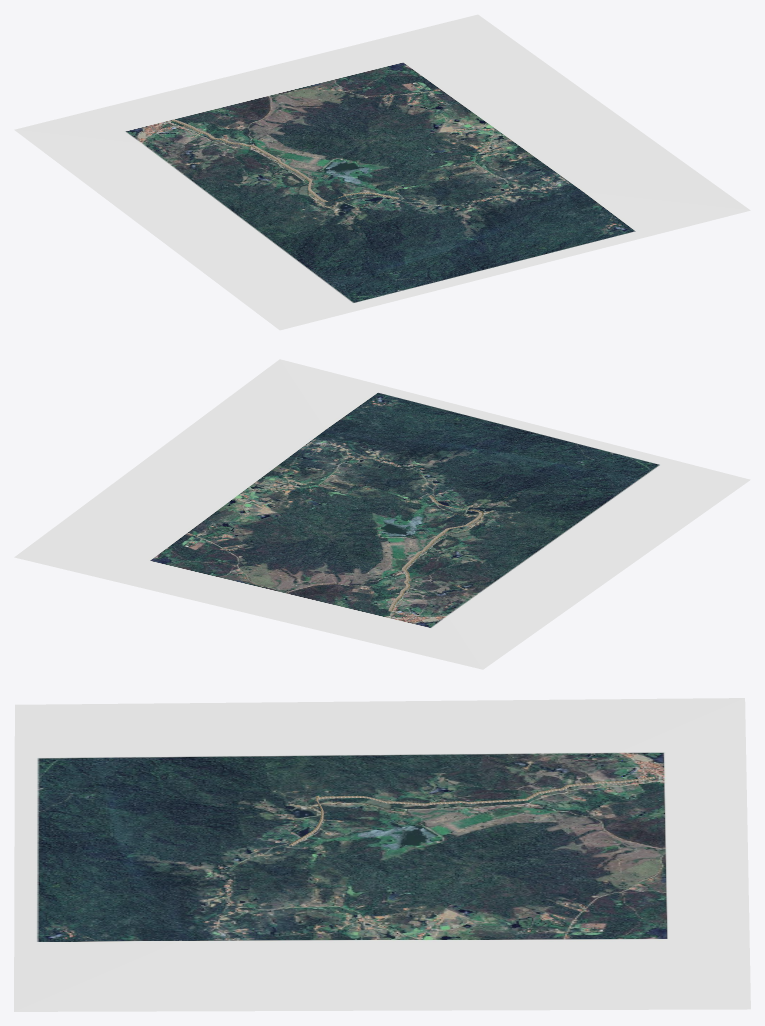
The model's file is sacoverde.gltf.
3 views of the same model, one above another, from view 1: azimuth 30°, elevation 25°; view 2: azimuth 150°, elevation 25°; view 3: azimuth 270°, elevation 25° (orthographic). The views are drawn at different scales.
Visible parts, largest first — view 1: Flat Plane, Sides[Gravel]; view 2: Flat Plane, Sides[Gravel]; view 3: Flat Plane, Sides[Gravel].
Boxes of the visible parts, bbox=[...] form: Flat Plane: bbox=[14, 14, 750, 330]; Sides[Gravel]: bbox=[172, 119, 399, 202]; Flat Plane: bbox=[14, 359, 750, 669]; Sides[Gravel]: bbox=[388, 495, 483, 611]; Flat Plane: bbox=[14, 698, 750, 1011]; Sides[Gravel]: bbox=[289, 776, 654, 846].
Bounding box in the file's own units: 4688 × 146 × 4643.
3 materials, 3 textured.
